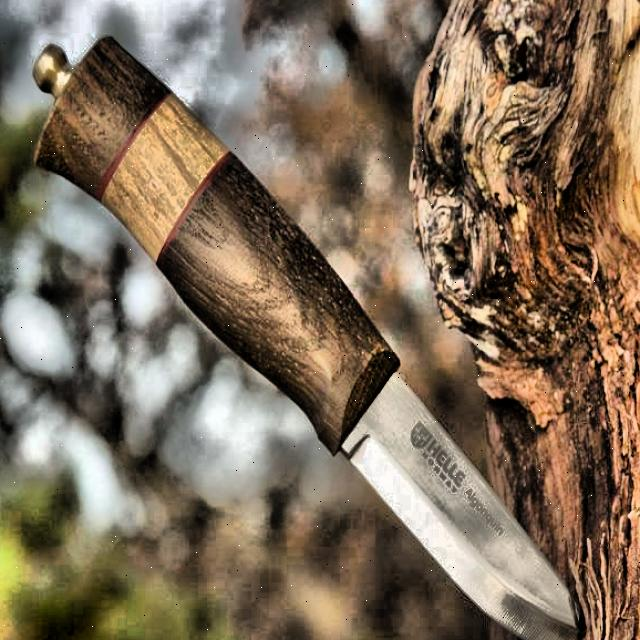knife: (35, 36, 579, 640)
